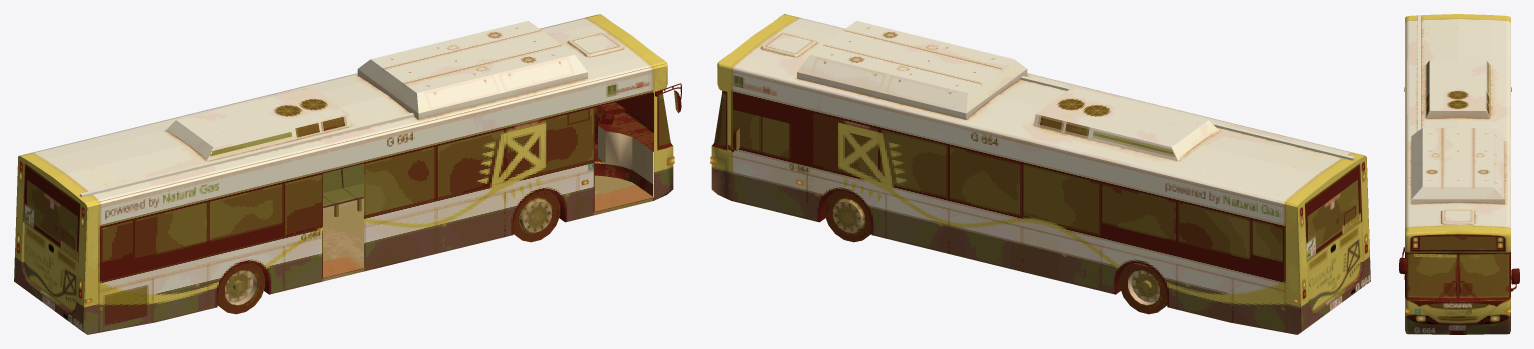
Rendered from dream3.glb.
3 renders of one model, left to right at view 1: azimuth 30°, elevation 25°; view 2: azimuth 150°, elevation 25°; view 3: azimuth 270°, elevation 25°, orthographic. The views are drawn at different scales.
Parts seen in each view (by area): view 1: Exterior, Interior, Seats; view 2: Exterior; view 3: Exterior.
Part boxes in pixels (x1,y1,x2,y2): Exterior: (14, 14, 681, 334); Interior: (63, 93, 653, 277); Seats: (323, 163, 363, 216); Exterior: (710, 14, 1370, 334); Exterior: (1399, 14, 1519, 334).
Size of the model in its own units: 18.16 by 4.92 by 4.16.
Materials: 5 (5 with a texture image).
